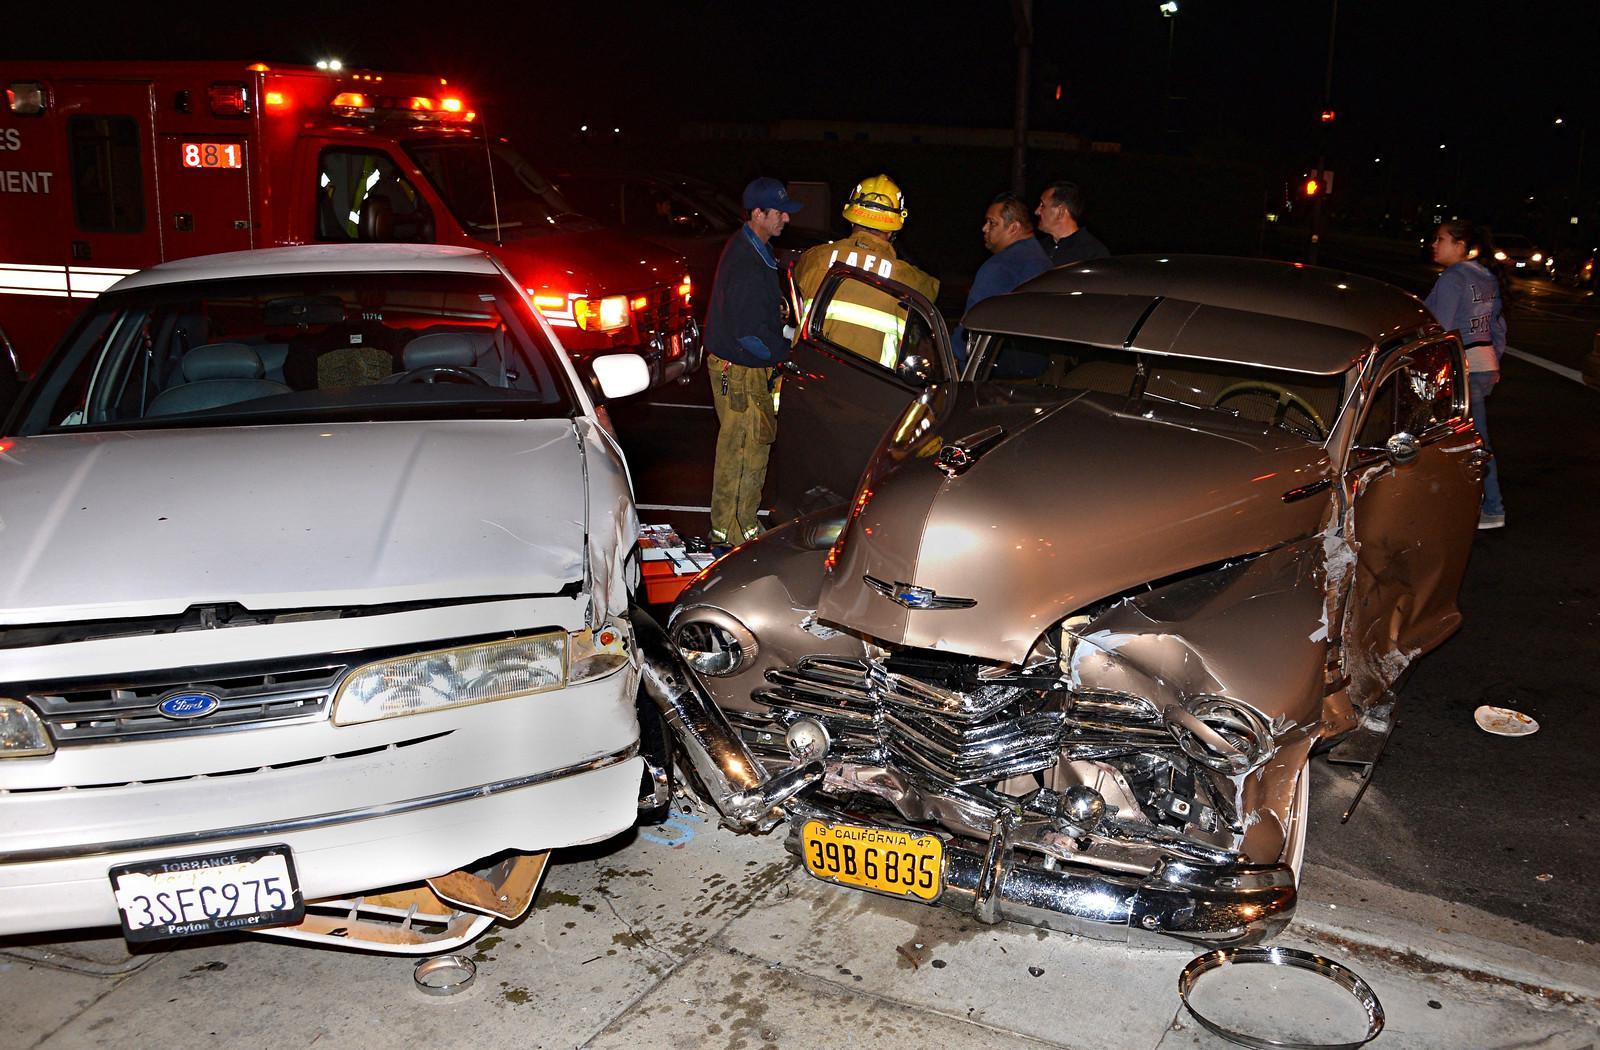bonnet-dent: (0, 403, 594, 639)
front-bumper-dent: (734, 587, 1310, 860), (33, 626, 573, 913)
